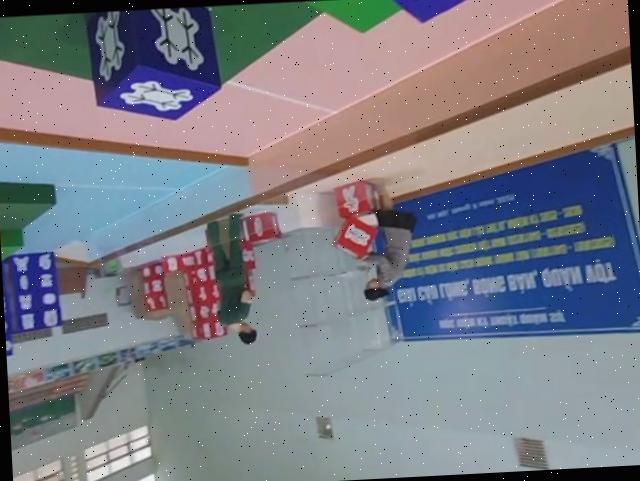R2 Real Blue: (85, 5, 224, 122)
